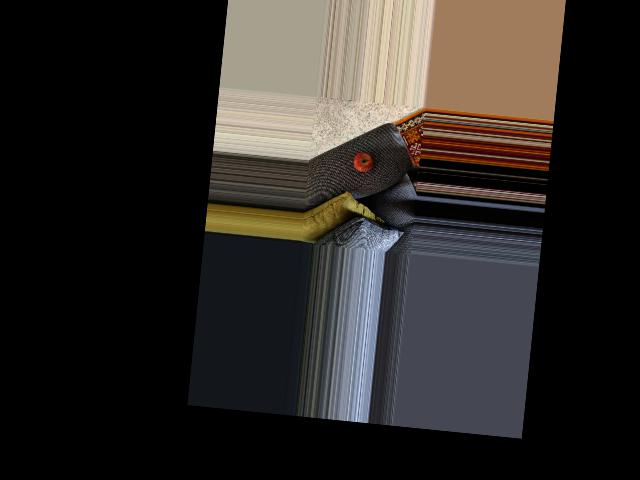apple: (352, 151, 376, 175)
